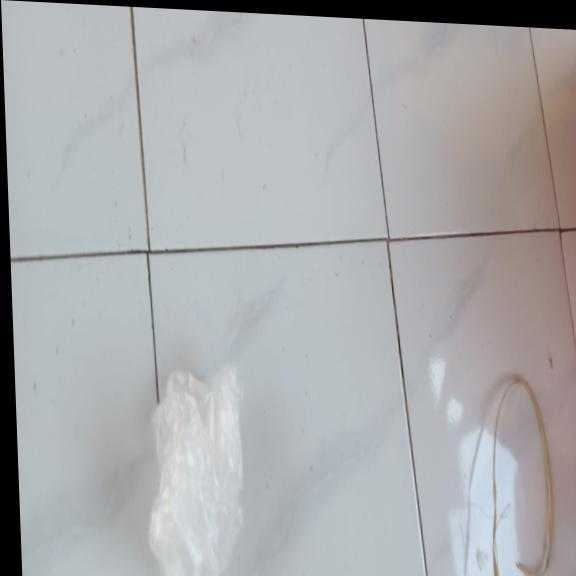Plastik: (138, 356, 246, 576)
